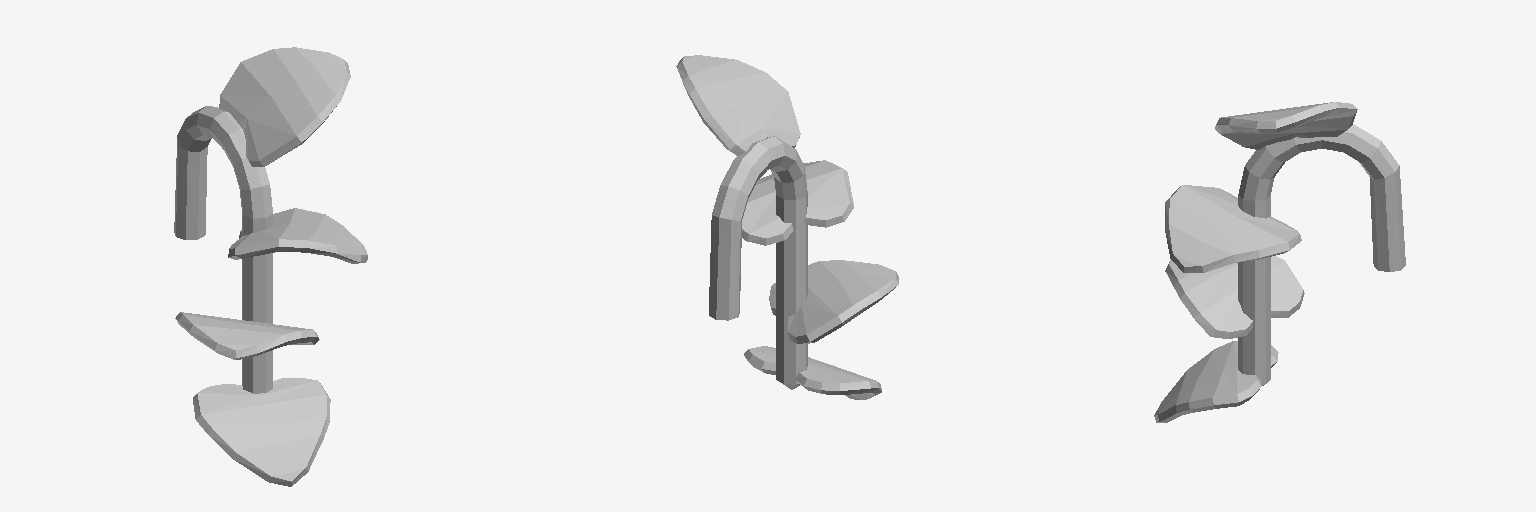
Rendered from pothos_vine_medium_A.obj.
3 views of the same model, side by side, from view 1: azimuth 30°, elevation 25°; view 2: azimuth 150°, elevation 25°; view 3: azimuth 270°, elevation 25° (orthographic).
Parts seen in each view (by area): view 1: pothos_vine_medium_A; view 2: pothos_vine_medium_A; view 3: pothos_vine_medium_A.
Part boxes in pixels (left/top/right/bottom): pothos_vine_medium_A: left=174, top=47, right=367, bottom=486; pothos_vine_medium_A: left=676, top=55, right=898, bottom=399; pothos_vine_medium_A: left=1154, top=102, right=1405, bottom=422.
Bounding box in the file's own units: 0.5195 × 0.9872 × 0.6275.